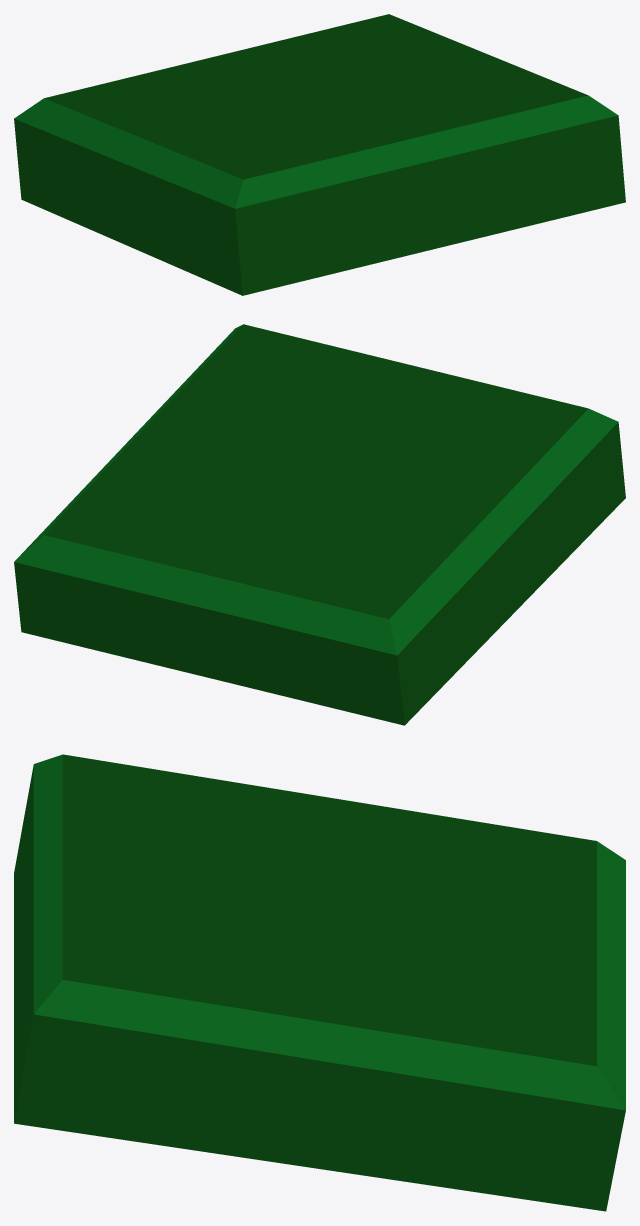
The model's file is green_button.glb.
3 views of the same model, one above another, from view 1: azimuth 30°, elevation 25°; view 2: azimuth 150°, elevation 25°; view 3: azimuth 270°, elevation 25° (orthographic). The views are drawn at different scales.
Parts seen in each view (by area): view 1: Green_Button; view 2: Green_Button; view 3: Green_Button.
Boxes of the visible parts, x1,y1,x2,y2 form: Green_Button: [14, 14, 625, 295]; Green_Button: [14, 324, 625, 725]; Green_Button: [14, 754, 625, 1211].
Size of what is drawn, in the model's own units: 0.2721 by 0.1112 by 0.2812.
1 material, 1 textured.
